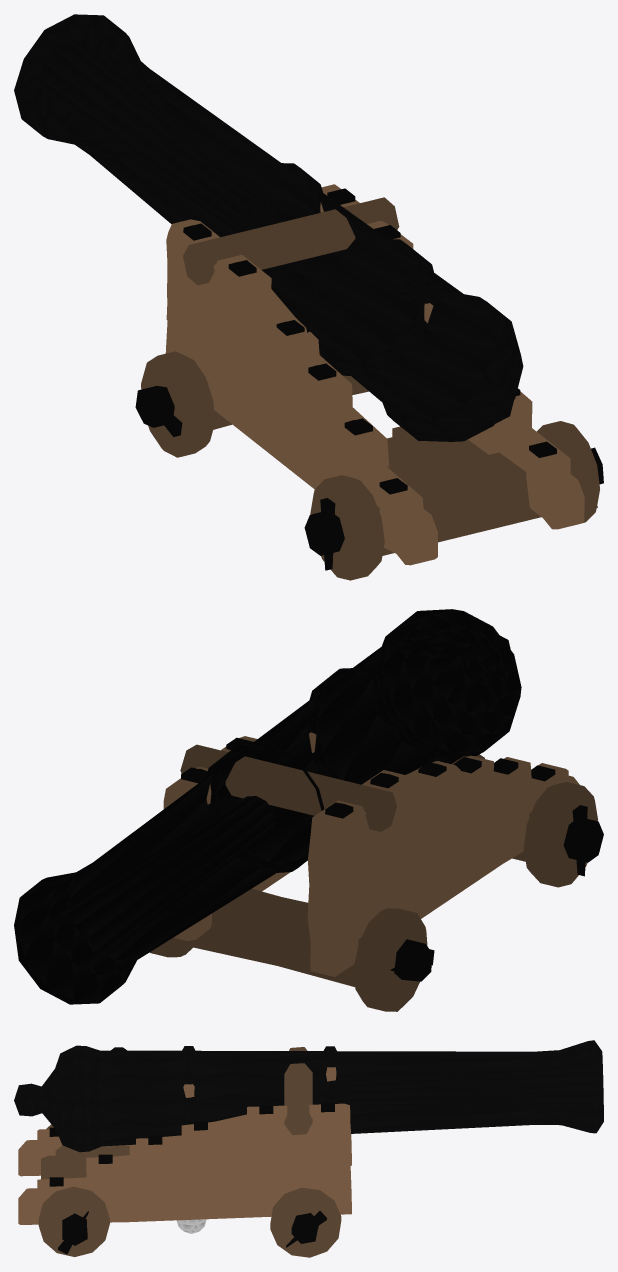
File: Cannon.glb
3 renders of one model, top to bottom at view 1: azimuth 30°, elevation 25°; view 2: azimuth 150°, elevation 25°; view 3: azimuth 270°, elevation 25°, orthographic. The views are drawn at different scales.
Visible parts, largest first — view 1: node_id6, node_id8; view 2: node_id8, node_id6; view 3: node_id8, node_id6, node_id4.
Boxes of the visible parts, x1,y1,x2,y2 form: node_id6: (135, 184, 603, 580); node_id8: (14, 14, 523, 441); node_id8: (14, 609, 521, 1004); node_id6: (149, 732, 603, 1011); node_id8: (14, 1040, 603, 1152); node_id6: (18, 1047, 351, 1257); node_id4: (176, 1219, 206, 1233).
Size of the model in its own units: 0.512 by 0.4656 by 1.32.
3 materials, 3 textured.
